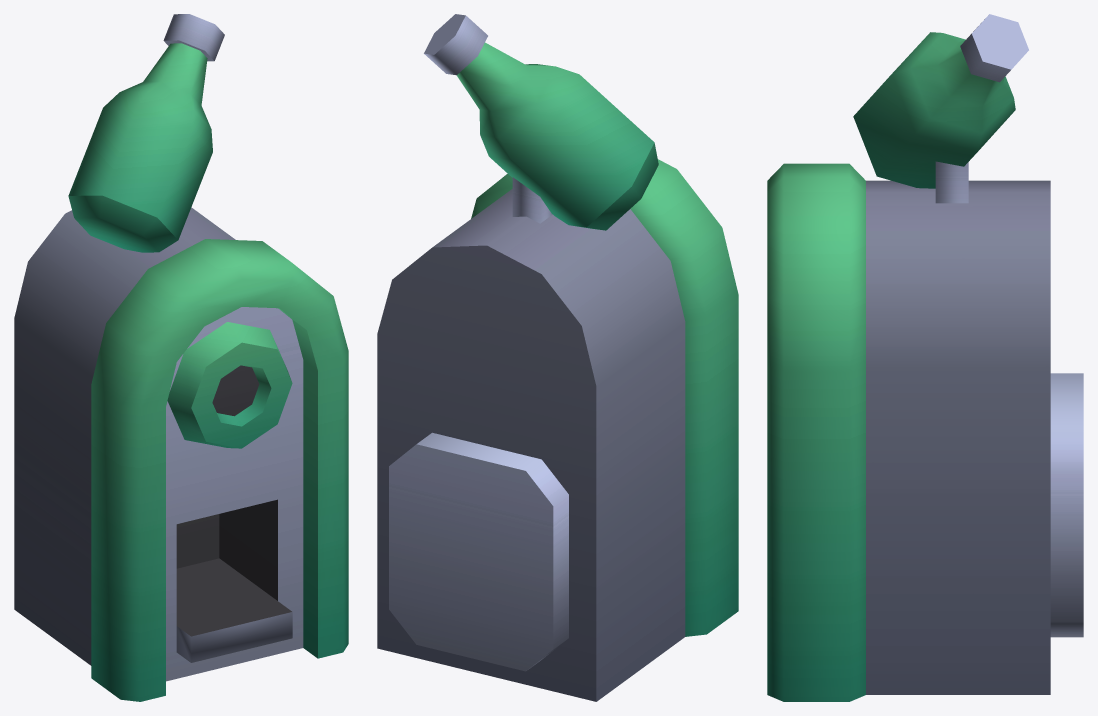
Rendered from bottle_bin.glb.
3 renders of one model, left to right at view 1: azimuth 30°, elevation 25°; view 2: azimuth 150°, elevation 25°; view 3: azimuth 270°, elevation 25°, orthographic. The views are drawn at different scales.
Visible parts, largest first — view 1: bottle-return; view 2: bottle-return; view 3: bottle-return.
Part boxes in pixels (<box>): bottle-return: <box>14,14,348,701</box>; bottle-return: <box>377,14,738,701</box>; bottle-return: <box>767,14,1083,701</box>.
Size of the model in its own units: 0.45 by 1.09 by 0.481.
1 material, 1 textured.
